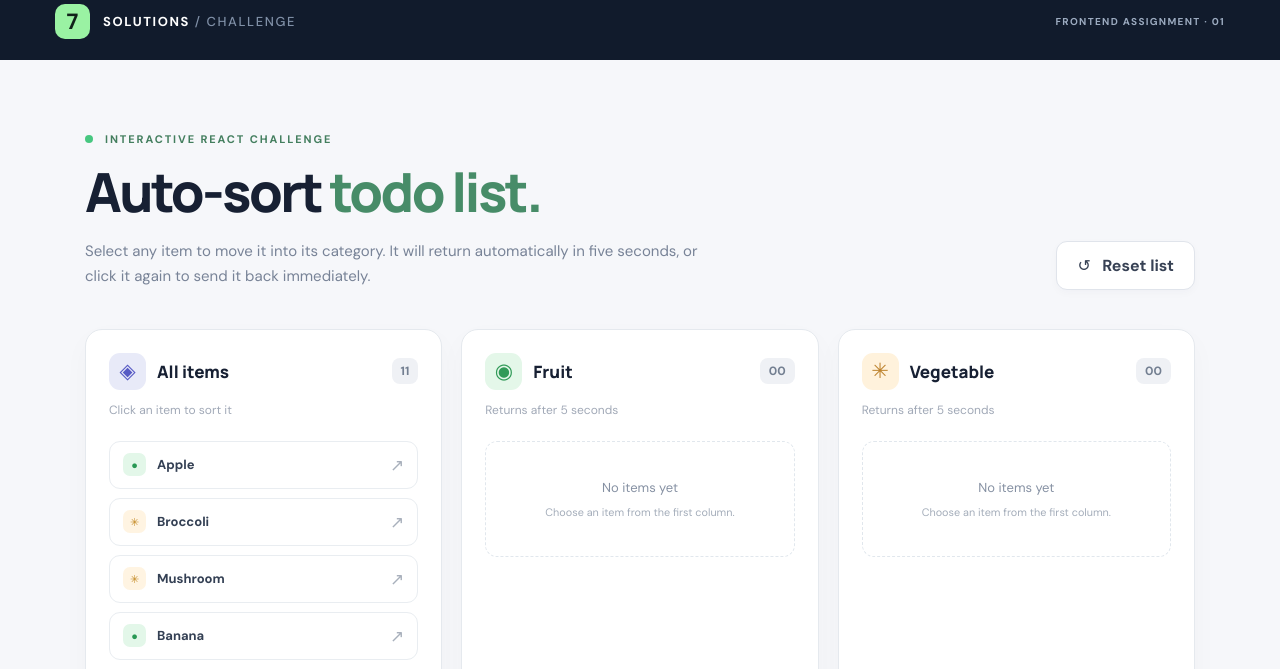
Test case: Auto Delete Todo › returns immediately and cancels the old timer
Click the button with aria-label "Broccoli: move to Vegetable" at (183, 522), box top-left (109, 498), bottom-right (418, 546)
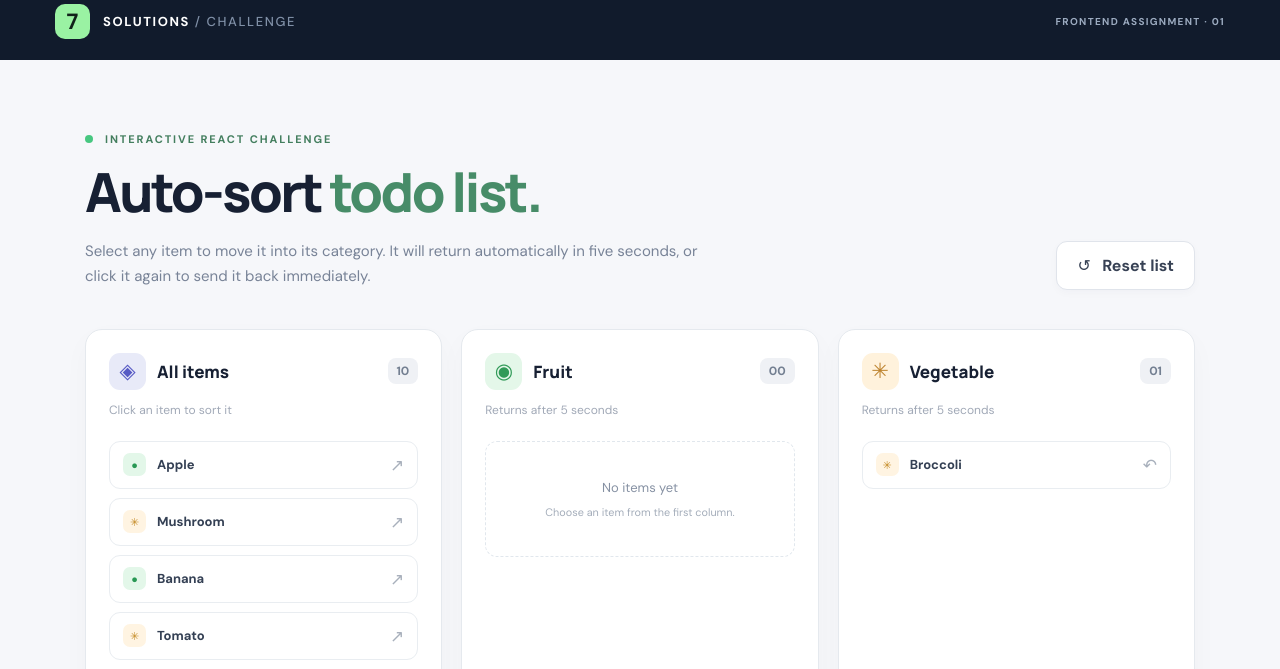
Click the button with aria-label "Broccoli: return to main list" at (936, 465), box top-left (862, 441), bottom-right (1171, 489)
Wait 5000 ms
(page scrolled)
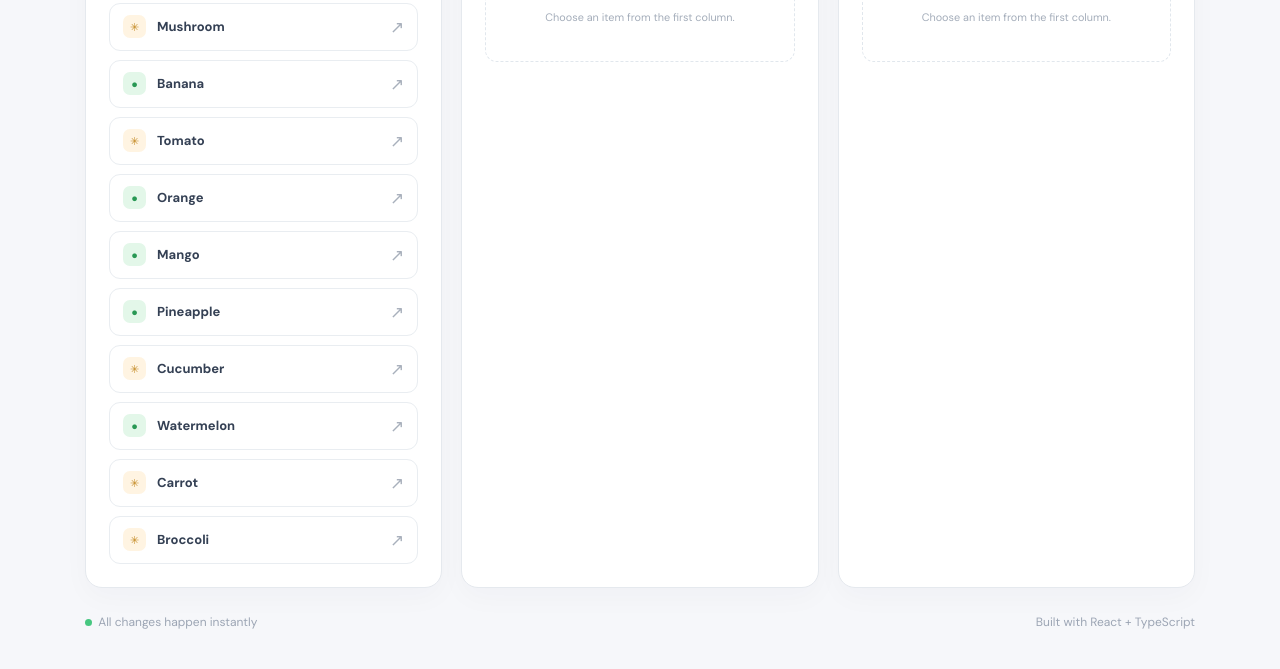
Expected: the button with aria-label "Broccoli: move to Vegetable" is shown, top-left (109, 516), bottom-right (418, 564)
